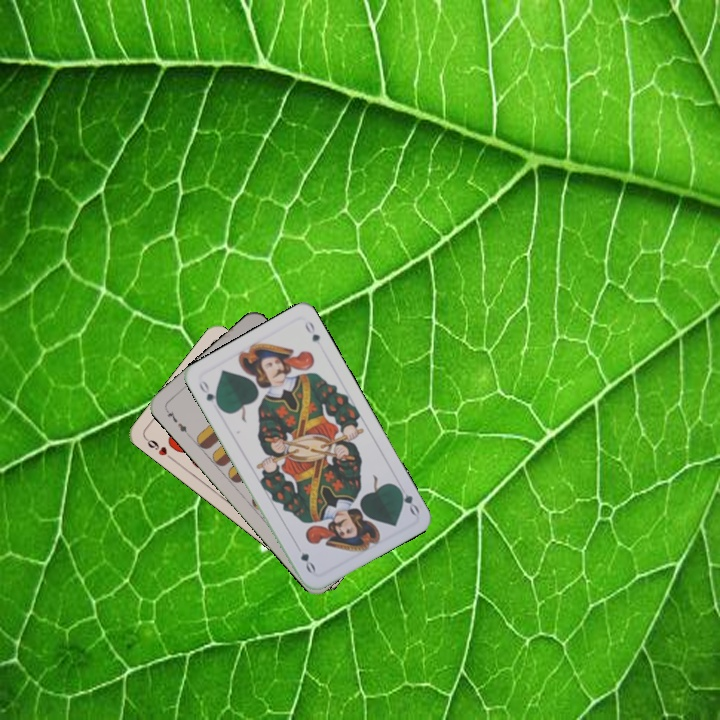E7: (161, 405, 192, 439)
GO: (392, 480, 422, 518), (195, 376, 223, 411)
H9: (141, 434, 176, 463)
